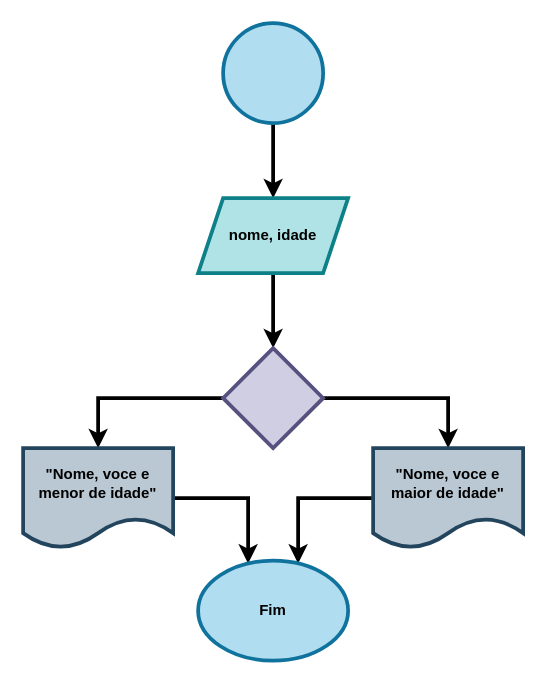
The diagram is 546 pixels wide and 684 high, and some of its shapes have lost their labels. The shapes that lost their labels are listed below. From the top down, each one's centre as x and y in pixels, then its label:
At (272,72): "Inicio".
At (272,397): "idade>=18".
